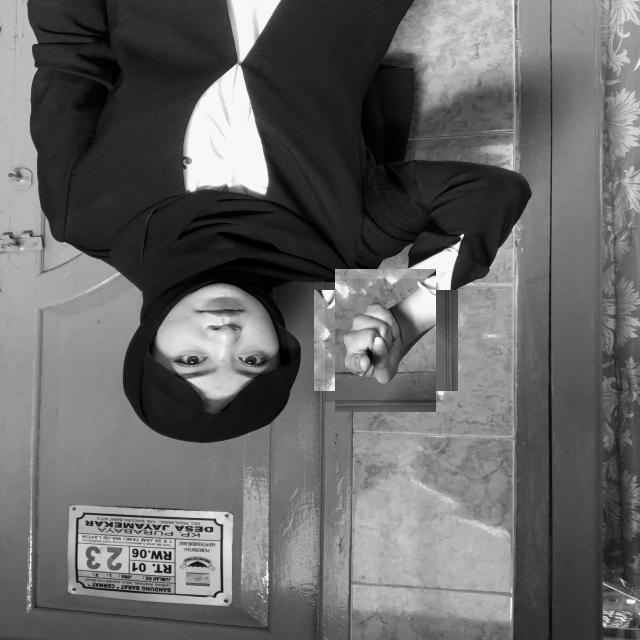kamu: (325, 279, 447, 402)
